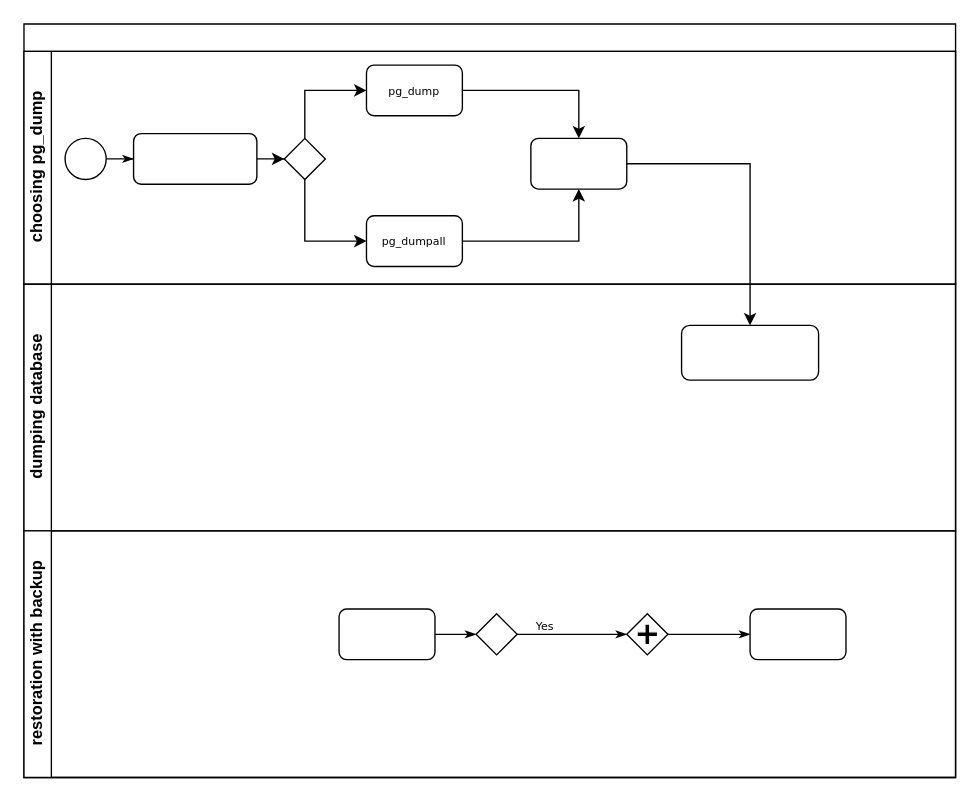
The diagram is 980 pixels wide and 801 high, and some of its shapes have lost their labels. The centre of each missing label's shape, as x and y in pixels:
creating the dump file on with the database: the point at 749,352
evaluating privileges, users and upper details: the point at 194,158
writing the command on SQL Shell: the point at 578,163
